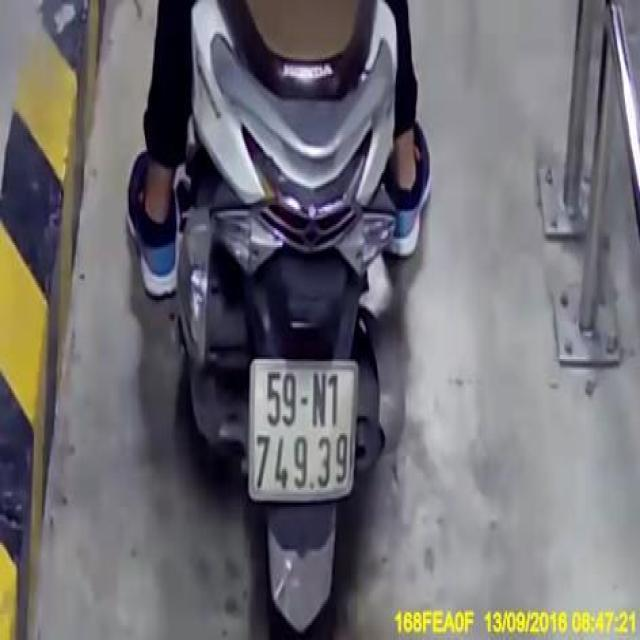bien_so: (246, 354, 356, 500)
